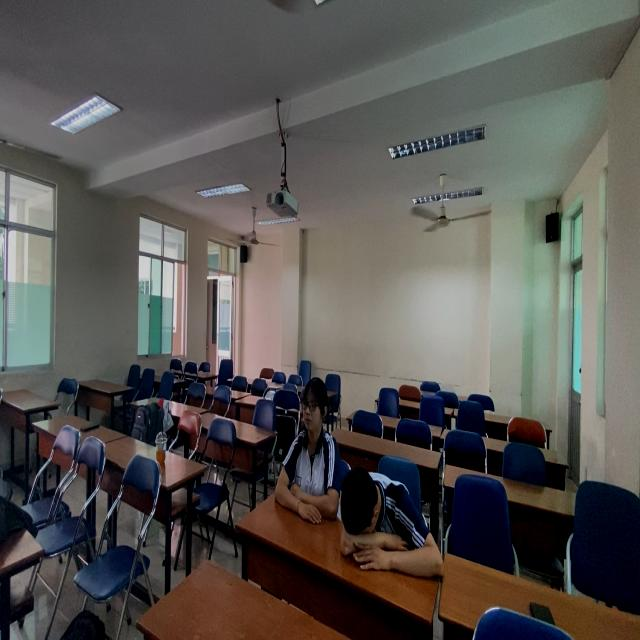sleep: (335, 469, 447, 585)
